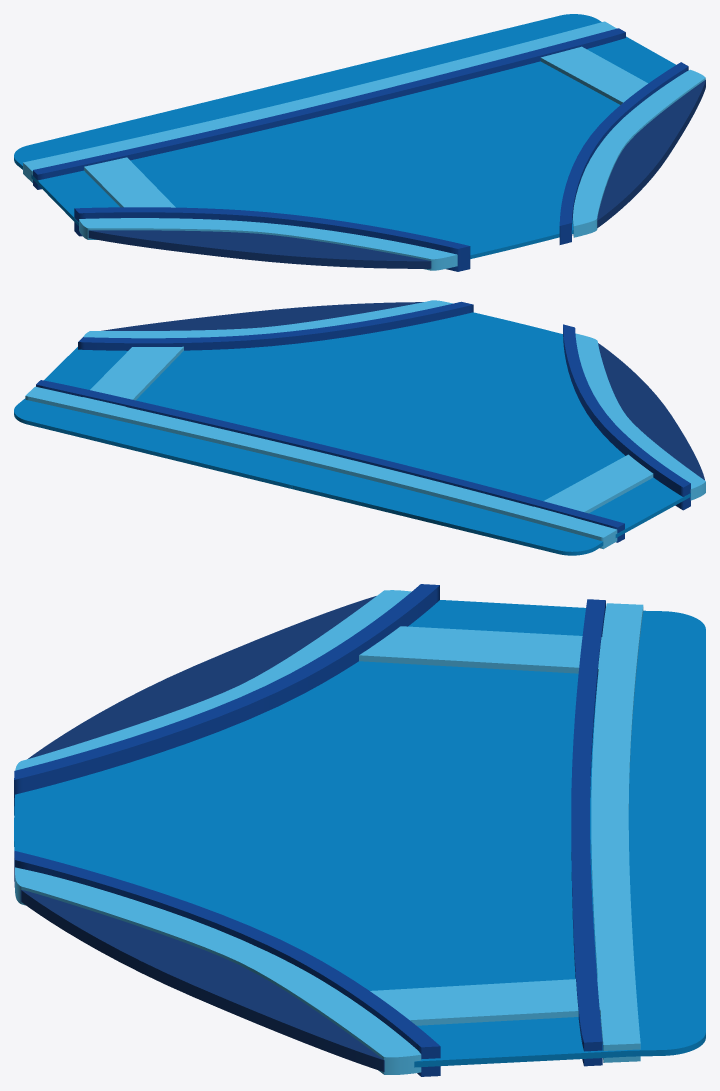
File: emoji_u1fa72.glb
3 views of the same model, one above another, from view 1: azimuth 30°, elevation 25°; view 2: azimuth 150°, elevation 25°; view 3: azimuth 270°, elevation 25° (orthographic). The views are drawn at different scales.
Parts seen in each view (by area): view 1: emoji_u1fa72; view 2: emoji_u1fa72; view 3: emoji_u1fa72.
Part boxes in pixels (bbox=[...]): emoji_u1fa72: bbox=[14, 14, 705, 271]; emoji_u1fa72: bbox=[14, 300, 705, 555]; emoji_u1fa72: bbox=[14, 584, 705, 1076].
Size of the model in its own units: 0.0338 by 0.0012 by 0.0212.
